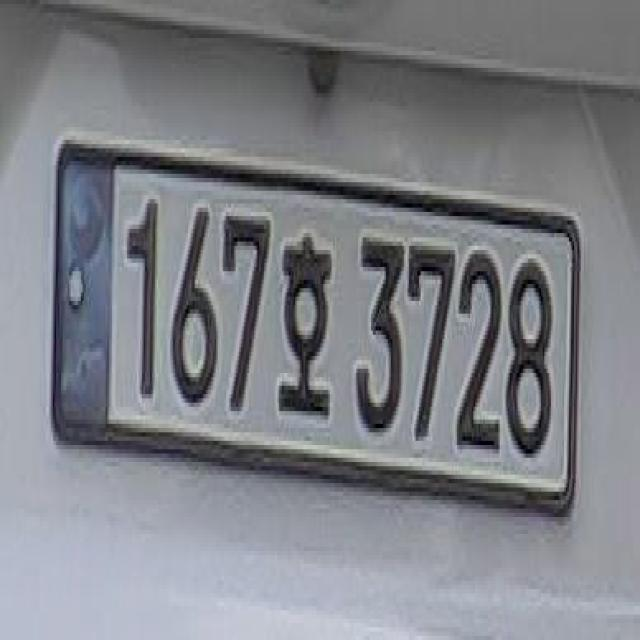illegal_plate: (44, 137, 580, 530)
